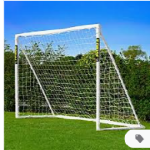goals: (13, 23, 146, 131)
